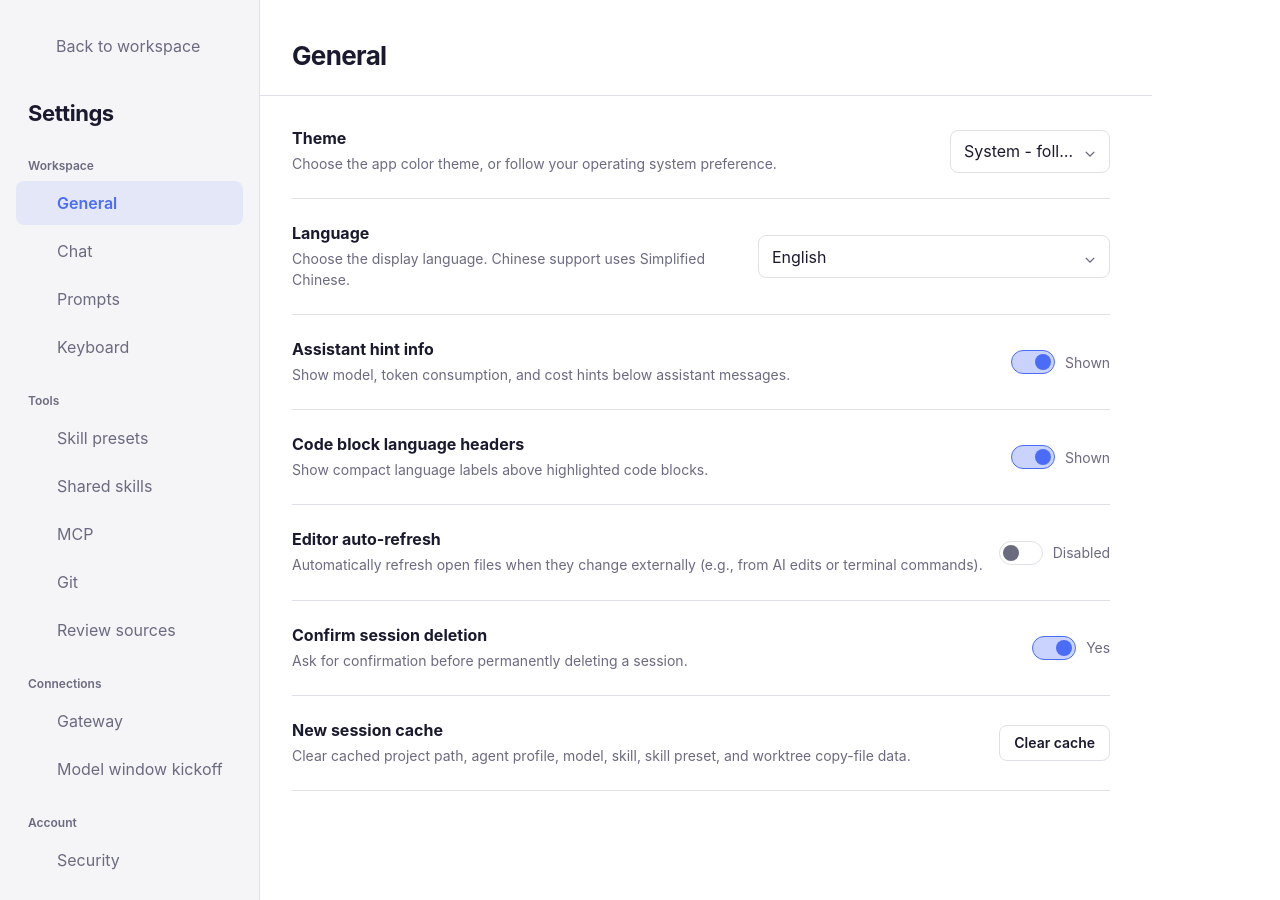
Test case: SettingsPage › lists the task inbox keyboard shortcut
The image size is (1280, 900).
Click the button with class "settings-menu-item" showing "Keyboard" at (130, 347), box top-left (16, 325), bottom-right (243, 369)
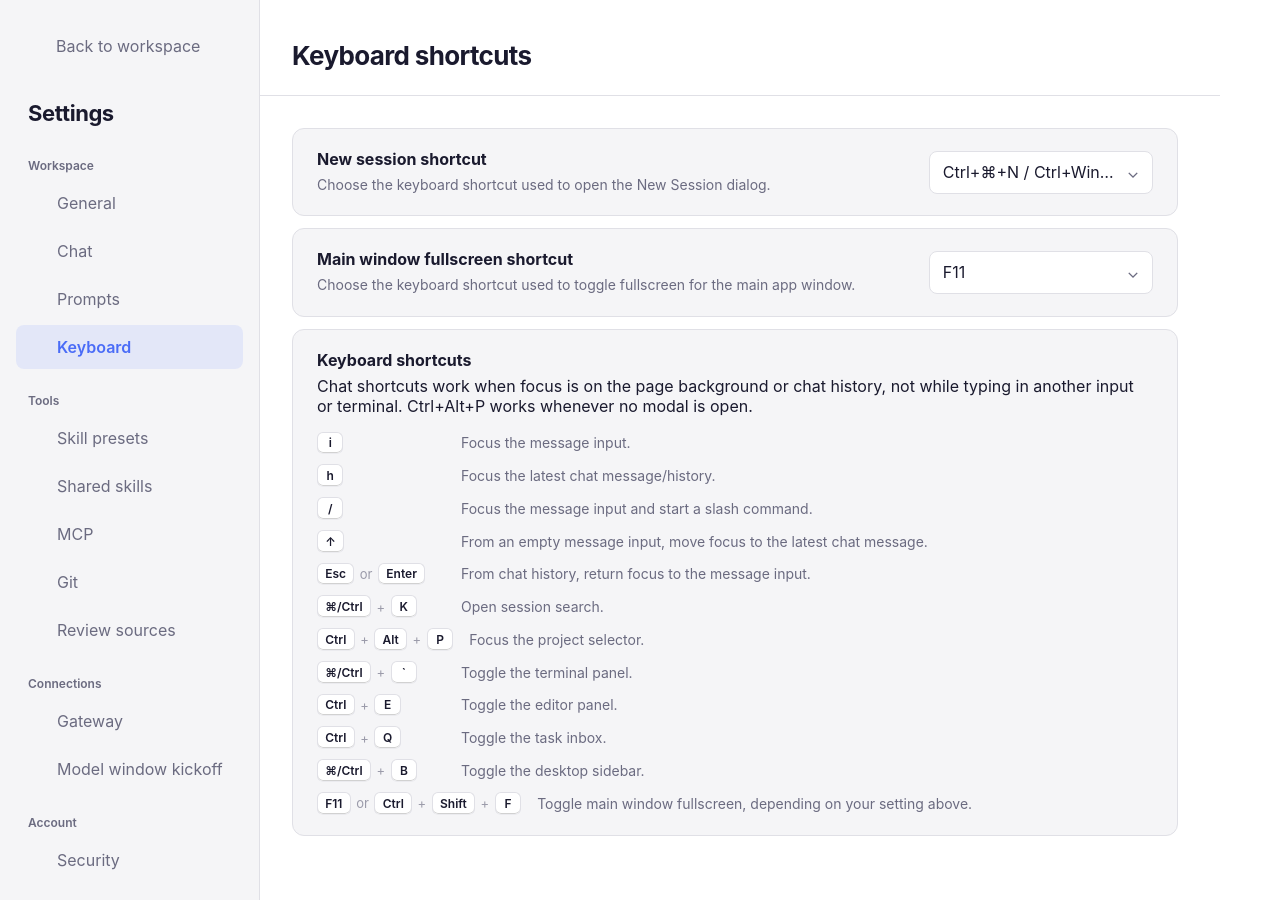
expect the element with class "keyboard-shortcut-list" shows "Ctrl + Q": met, box top-left (317, 432), bottom-right (972, 815)
expect the element with class "keyboard-shortcut-list" shows "Toggle the task inbox.": met, box top-left (461, 729), bottom-right (606, 746)
